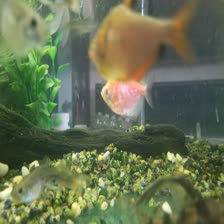Guppy: (6, 157, 68, 205), (0, 0, 53, 56)
Plano: (98, 75, 163, 115)
Transparente: (88, 0, 200, 85)
